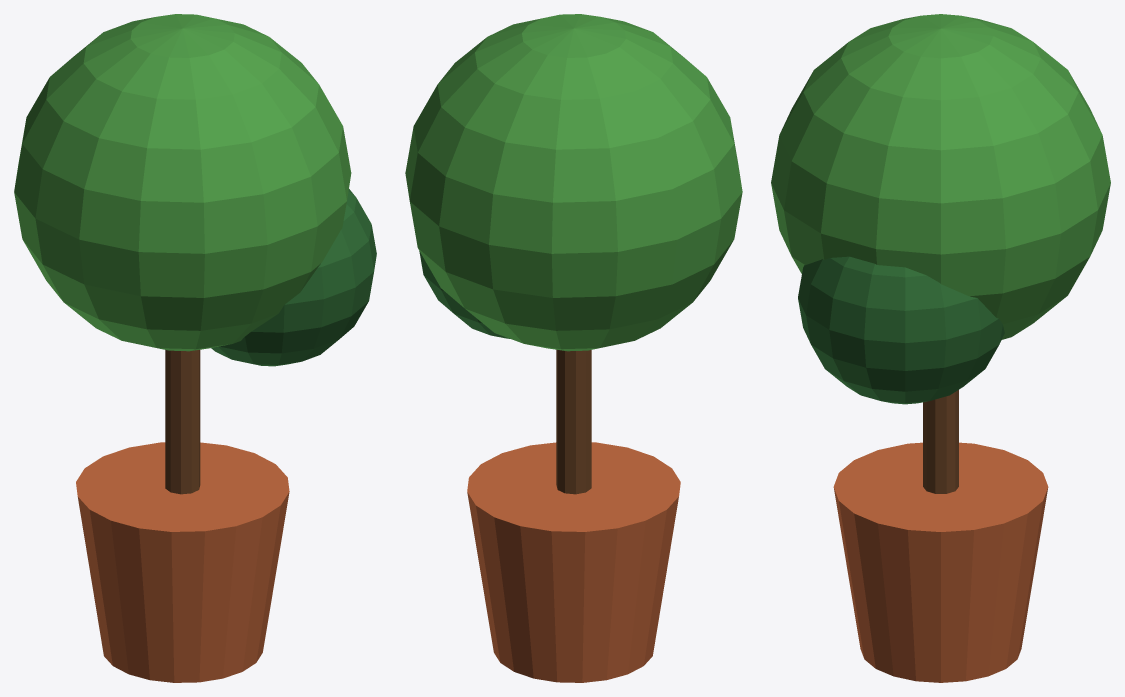
Rendered from potted_plant.glb.
3 renders of one model, left to right at view 1: azimuth 30°, elevation 25°; view 2: azimuth 150°, elevation 25°; view 3: azimuth 270°, elevation 25°, orthographic.
Visible parts, largest first — view 1: Bush, Pot, Bush_side, Trunk; view 2: Bush, Pot, Trunk, Bush_side; view 3: Bush, Pot, Bush_side, Trunk.
Part boxes in pixels (x1=…): Bush: x1=14, y1=14, x2=351, y2=351; Pot: x1=76, y1=442, x2=289, y2=682; Bush_side: x1=211, y1=189, x2=376, y2=366; Trunk: x1=165, y1=350, x2=200, y2=494; Bush: x1=405, y1=14, x2=742, y2=351; Pot: x1=467, y1=442, x2=680, y2=682; Trunk: x1=556, y1=349, x2=591, y2=494; Bush_side: x1=419, y1=251, x2=509, y2=338; Bush: x1=771, y1=14, x2=1110, y2=339; Pot: x1=833, y1=442, x2=1048, y2=682; Bush_side: x1=798, y1=256, x2=1004, y2=404; Trunk: x1=923, y1=390, x2=958, y2=493.
Bounding box in the file's own units: 0.8 × 1.53 × 0.76.
